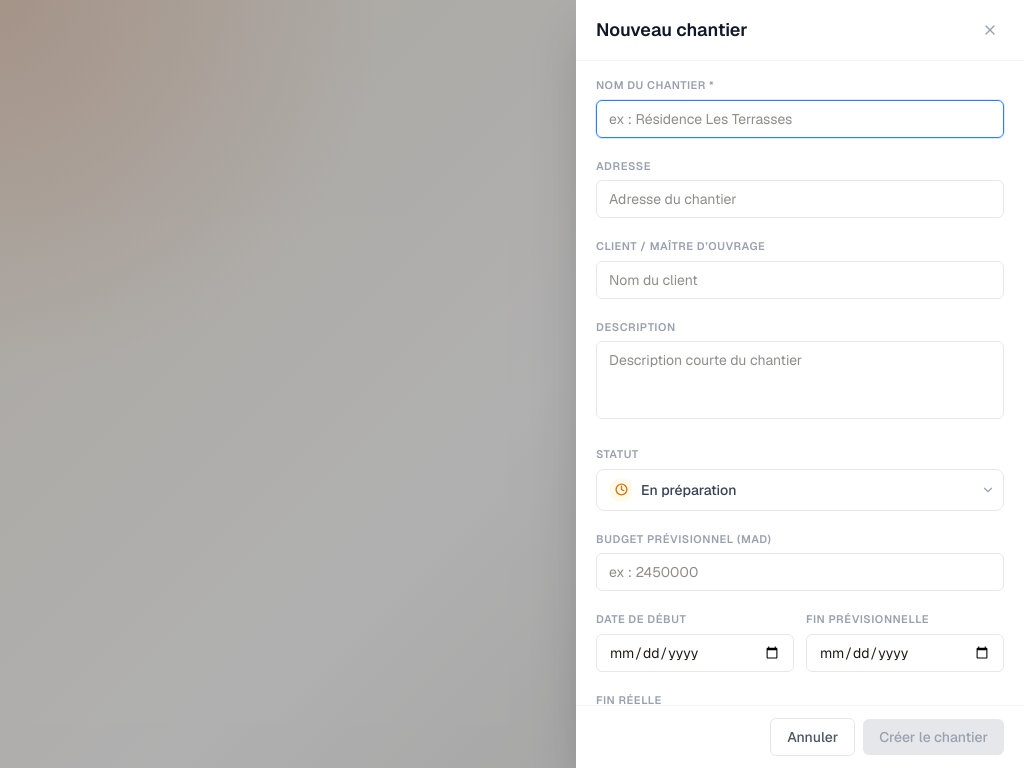
Test case: ProjectHubFormPanel — error handling › shows the ApiError message when the save fails
The width and height of the screenshot is (1024, 768).
Type "Site" into the field with placeholder "ex : Résidence Les Terrasses" at (800, 118), box [596,100,1004,138]
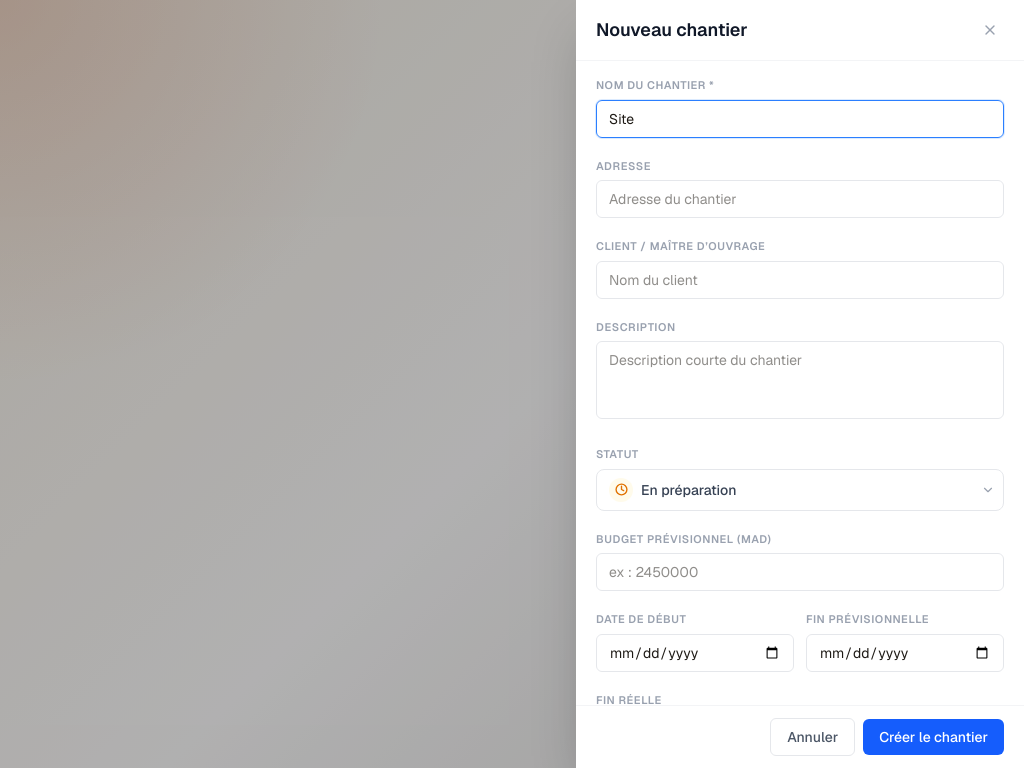
Click the button "Créer le chantier" at (934, 737), box [863,719,1004,755]
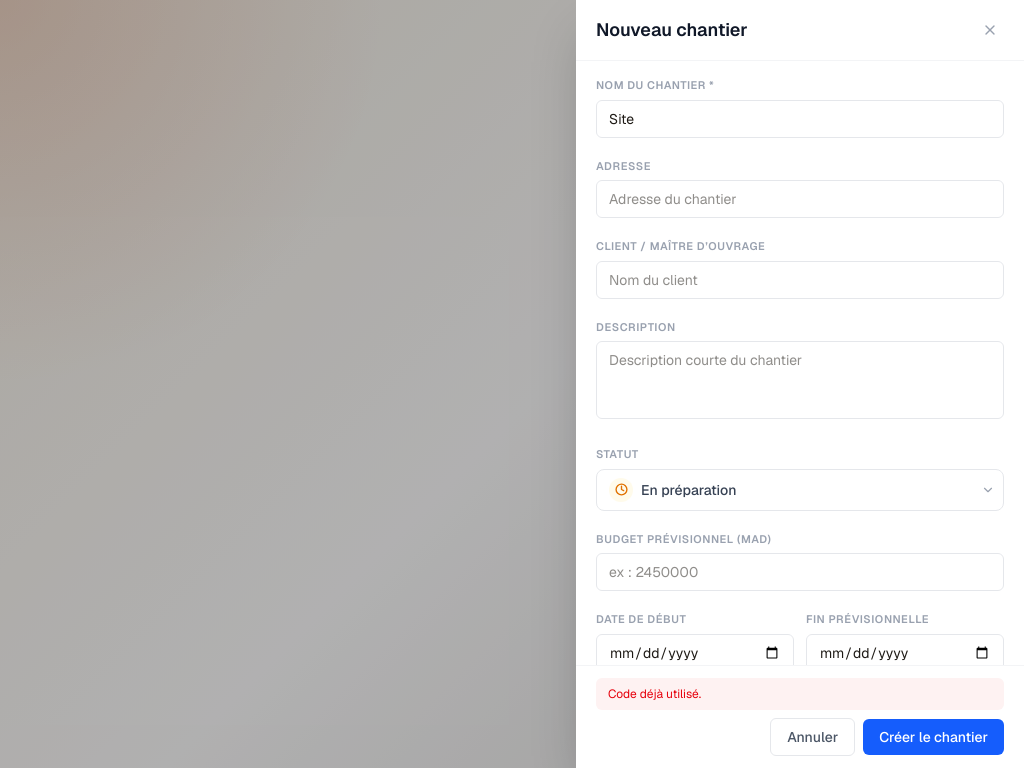
Now the text "Code déjà utilisé." is shown, box [596,678,1004,710]
